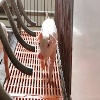heo: (36, 10, 59, 83)
